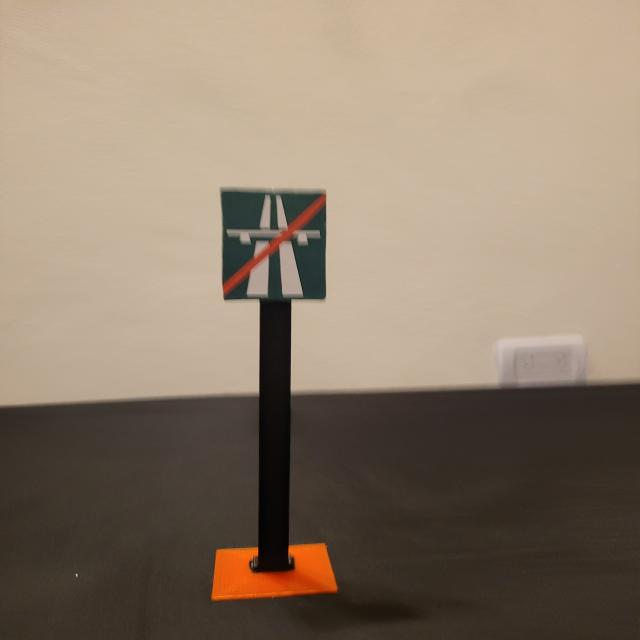highway_exit: (217, 188, 328, 301)
